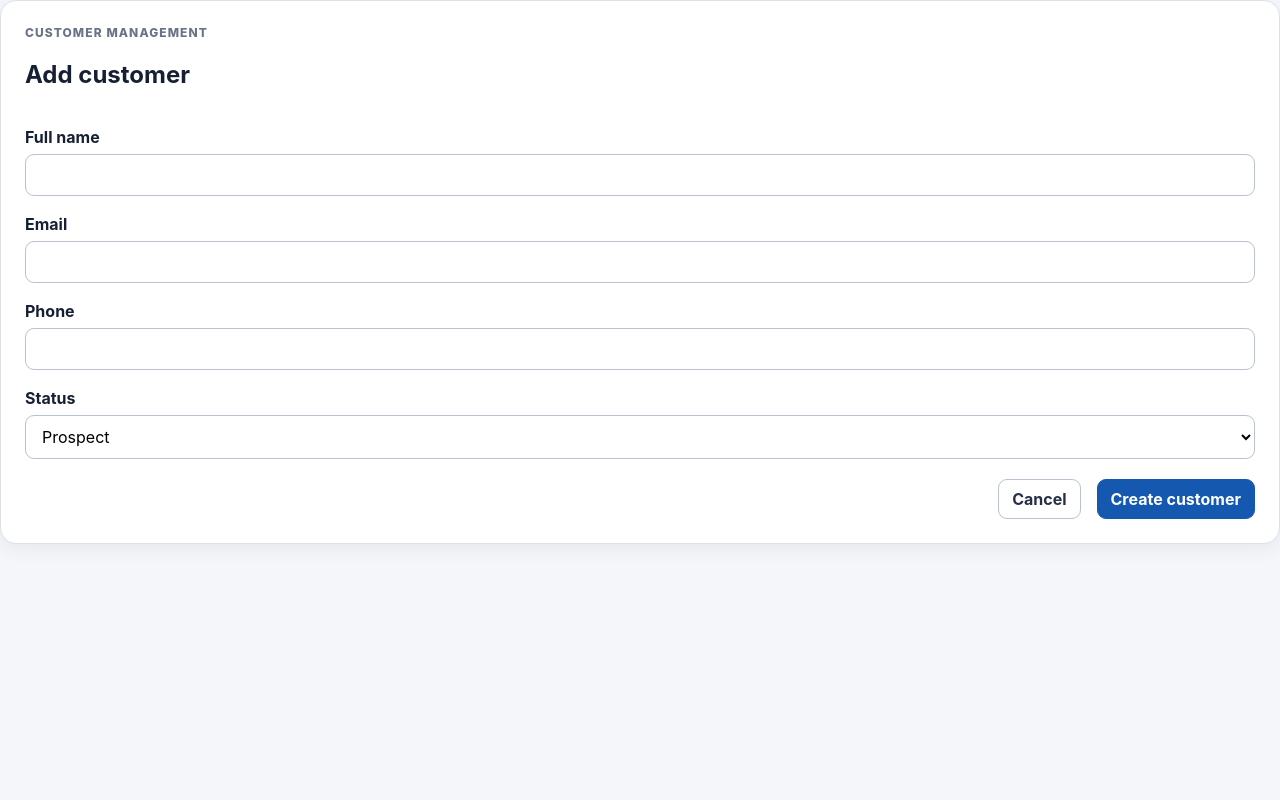
CustomerForm › requires an email
This screenshot has width=1280, height=800.
Type "Jason Momoa" into the field labelled "Full name" at {"x": 640, "y": 175}, box [25,154,1255,196]
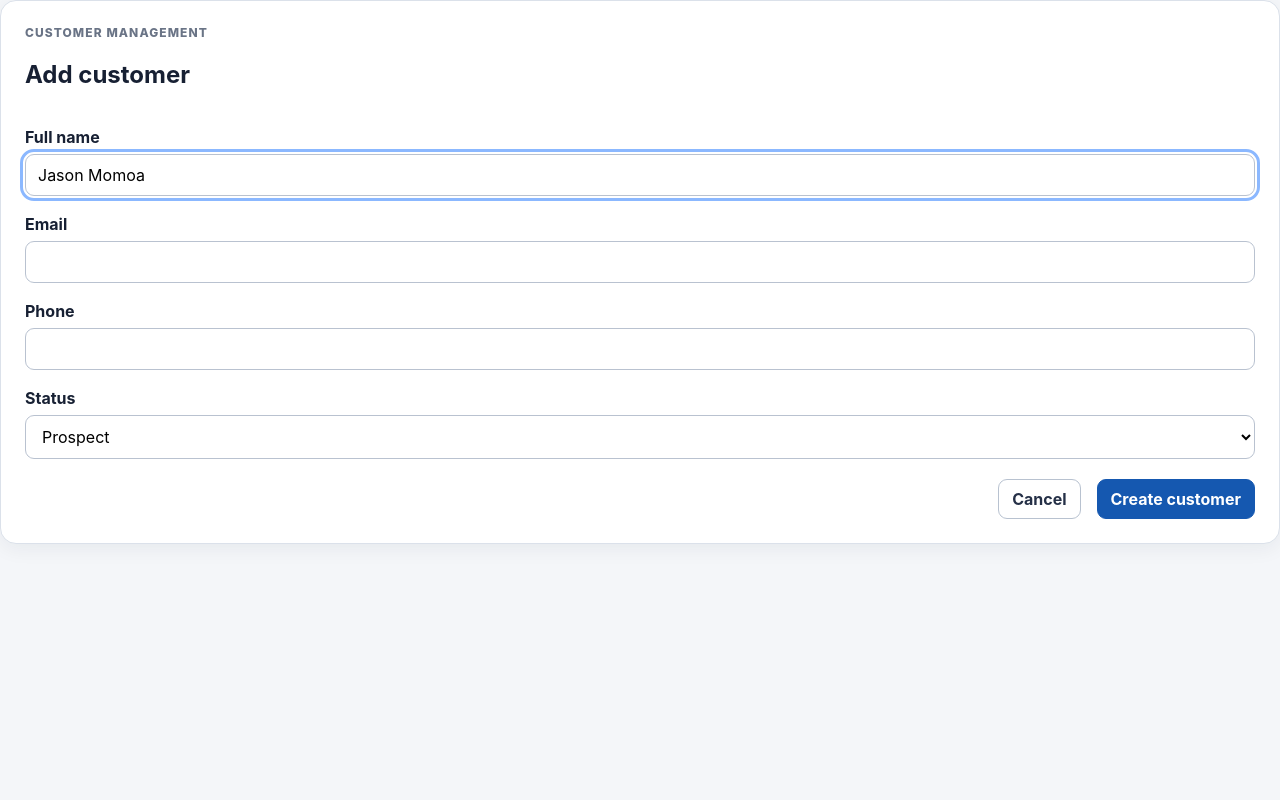
Click the button "Create customer" at {"x": 1176, "y": 499}, box [1096,479,1255,519]
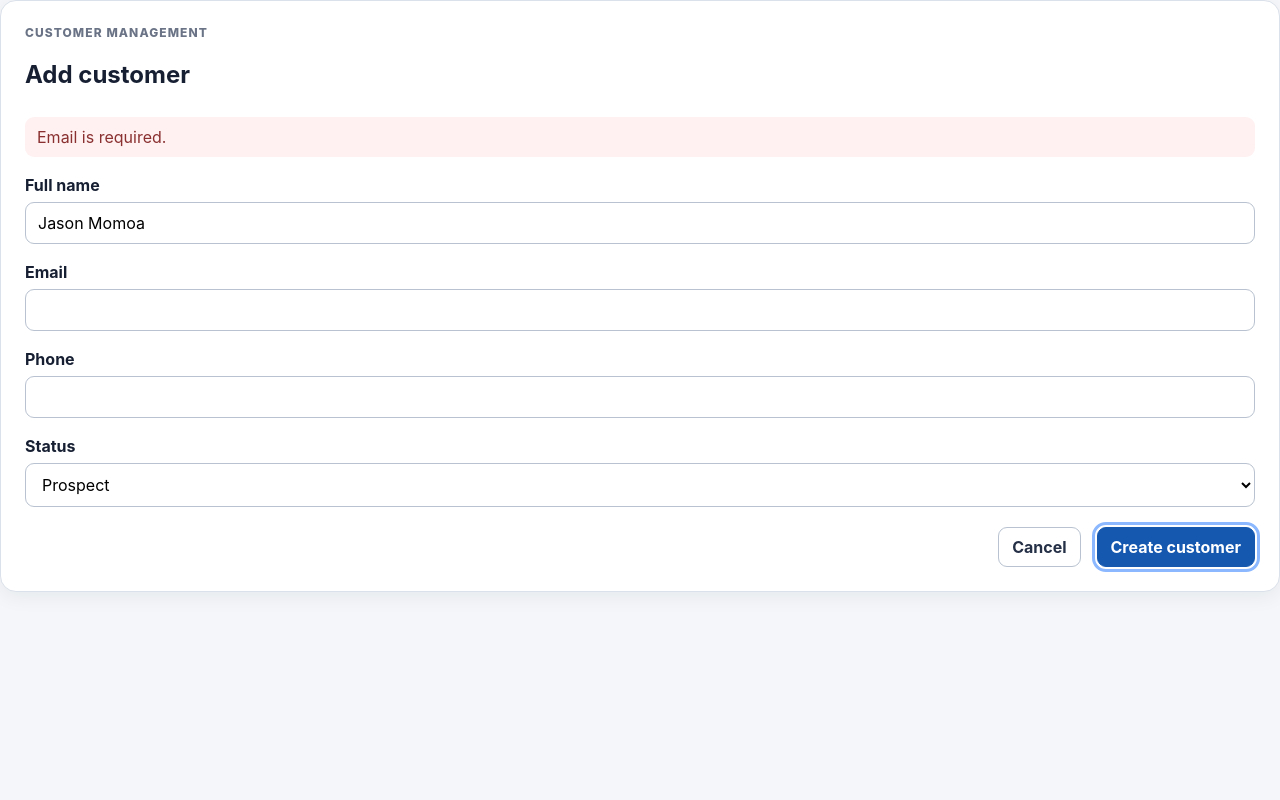
Check: the message reads "Email is required.", box [37,127,166,147]
